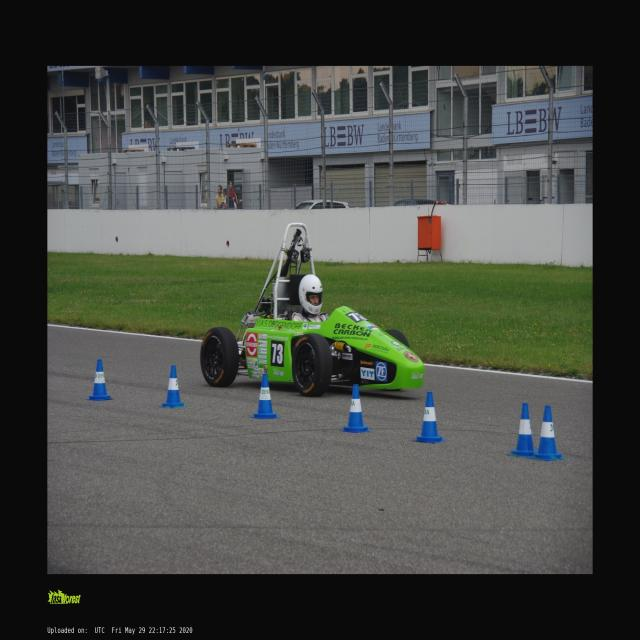blue_cone: (527, 406, 567, 460), (412, 392, 447, 442), (506, 404, 538, 456), (339, 384, 373, 432), (250, 374, 280, 418), (158, 365, 188, 408), (85, 359, 115, 401)
